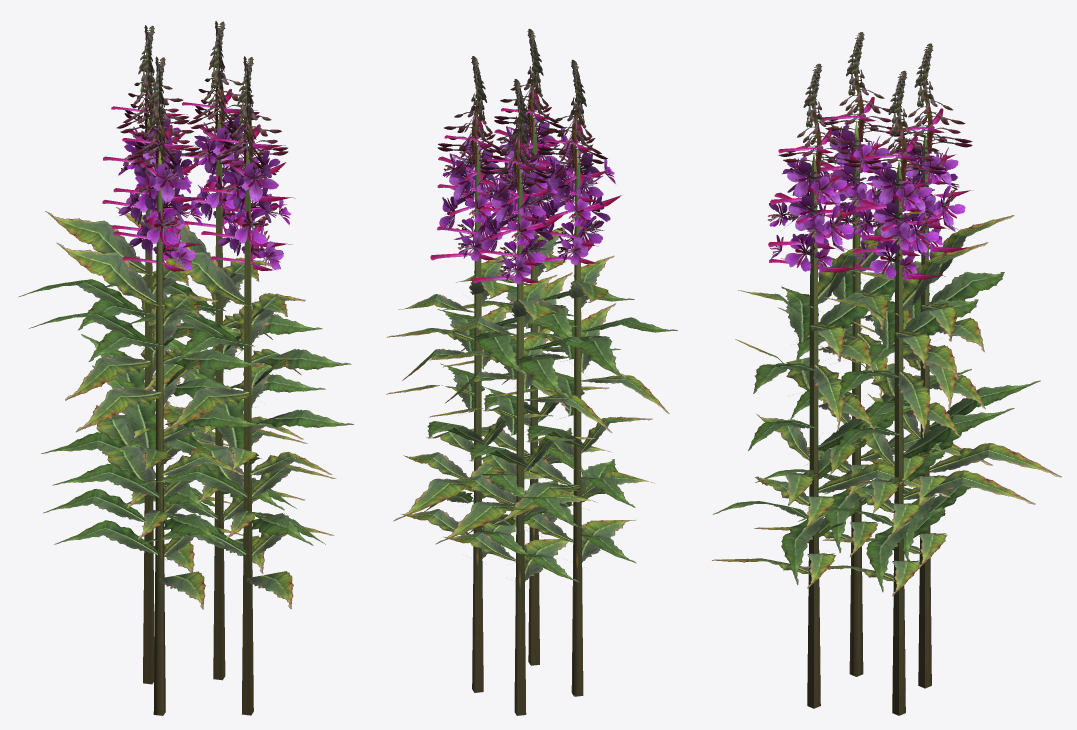
The model's file is tree_k.FBX.
3 renders of one model, left to right at view 1: azimuth 30°, elevation 25°; view 2: azimuth 150°, elevation 25°; view 3: azimuth 270°, elevation 25°, orthographic. The views are drawn at different scales.
Visible parts, largest first — view 1: tree_k; view 2: tree_k; view 3: tree_k.
Part boxes in pixels (x1,y1,x2,y2): tree_k: (18, 21, 353, 715); tree_k: (386, 28, 677, 715); tree_k: (712, 32, 1061, 715).
Bounding box in the file's own units: 0.5806 × 1.4 × 0.6893.
Materials: 1 (1 with a texture image).
